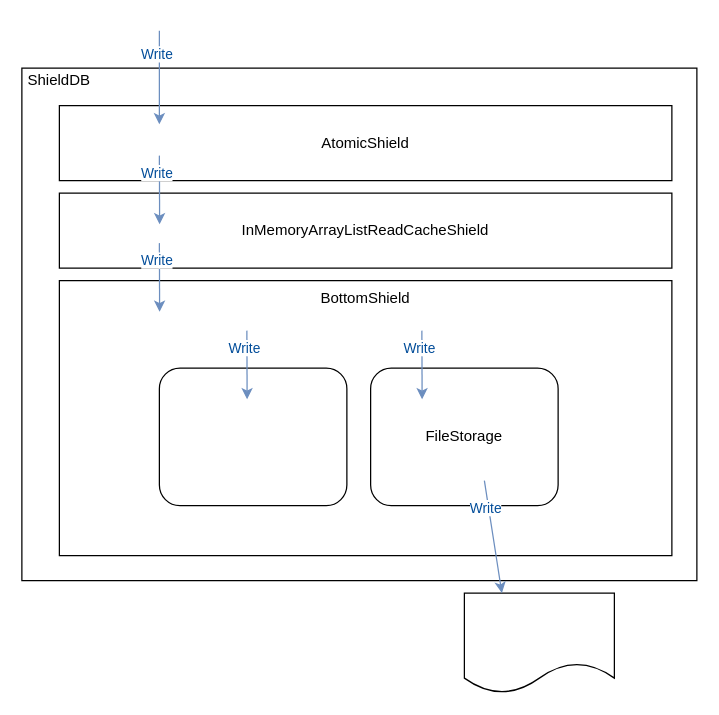
This 719x715 diagram has some shape labels left out. The shapes that lost their labels are listed below. From the top down, each one's centre as x and y in pixels, then its label:
At [252,436]: "ShieldDBGson".
At [538,642]: "User.json".
